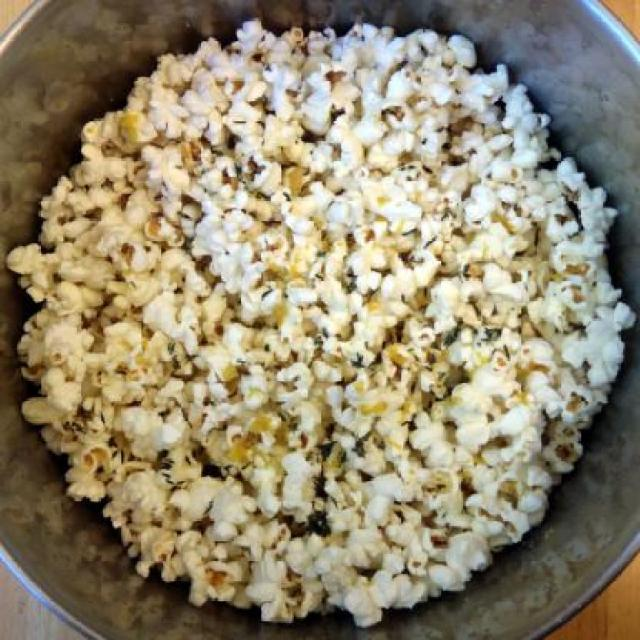Popcorn: (4, 14, 636, 628)
